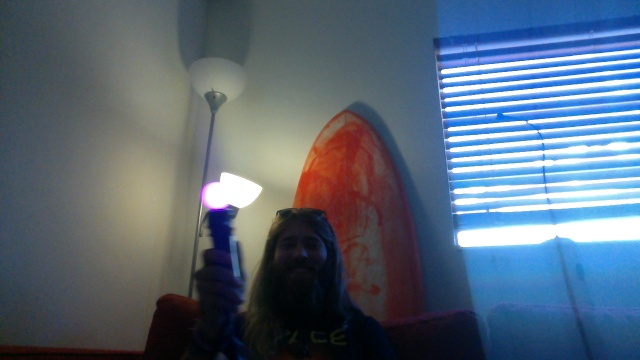wand: (202, 183, 231, 209)
